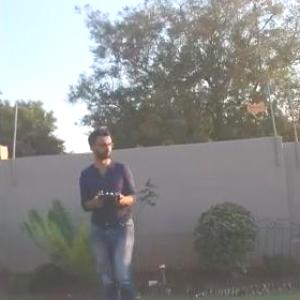follow: (77, 123, 144, 299)
